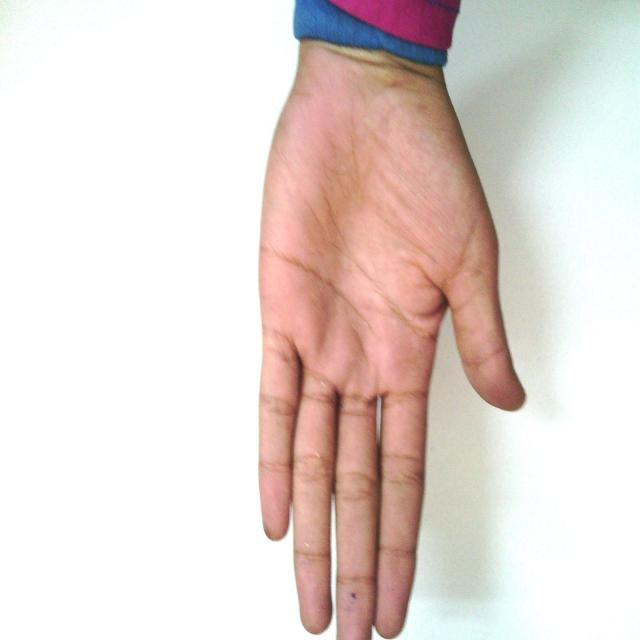others: (197, 0, 581, 639)
